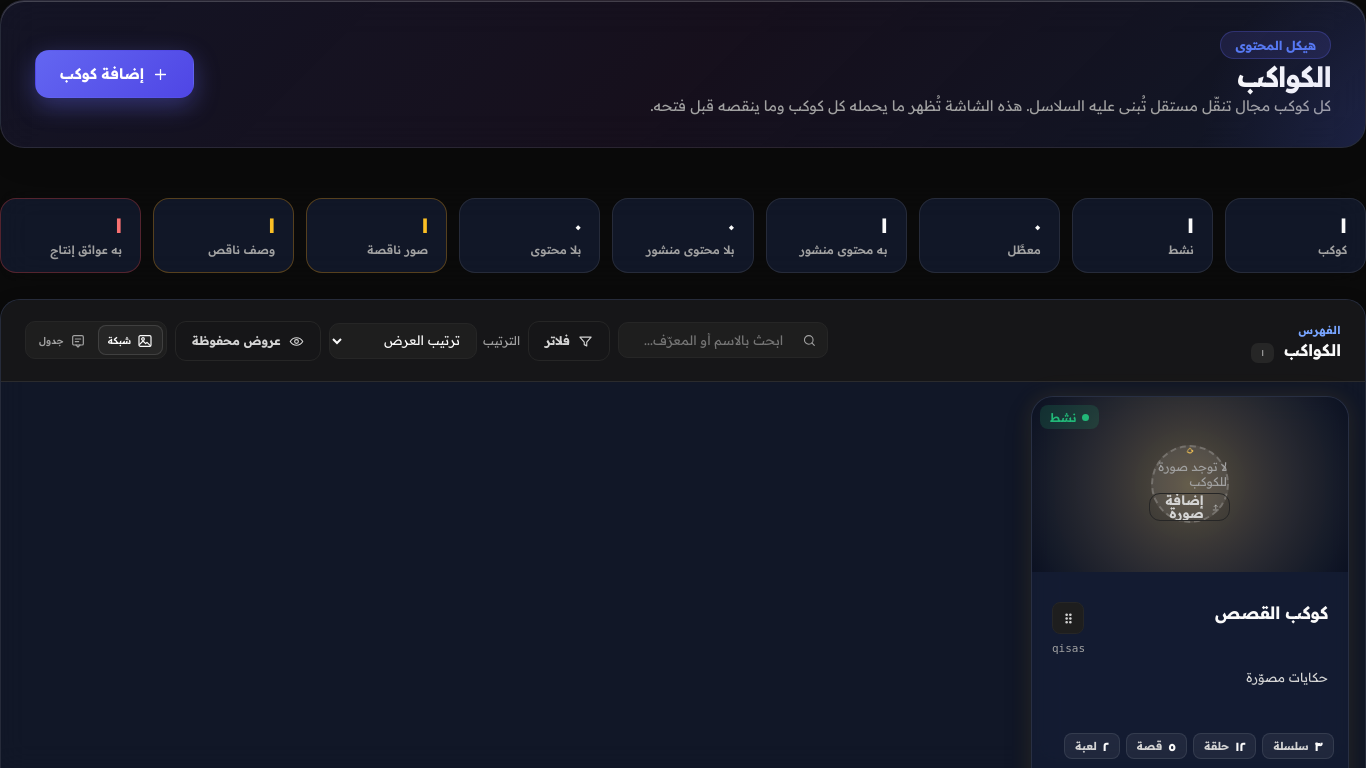
Test case: PlanetsPage › switching to the table view is recorded in the URL and keeps the data
Expected: the heading "كوكب القصص" is shown, [1215,602,1328,625]
Click the button "جدول" at (62, 341), box [29,326,96,356]
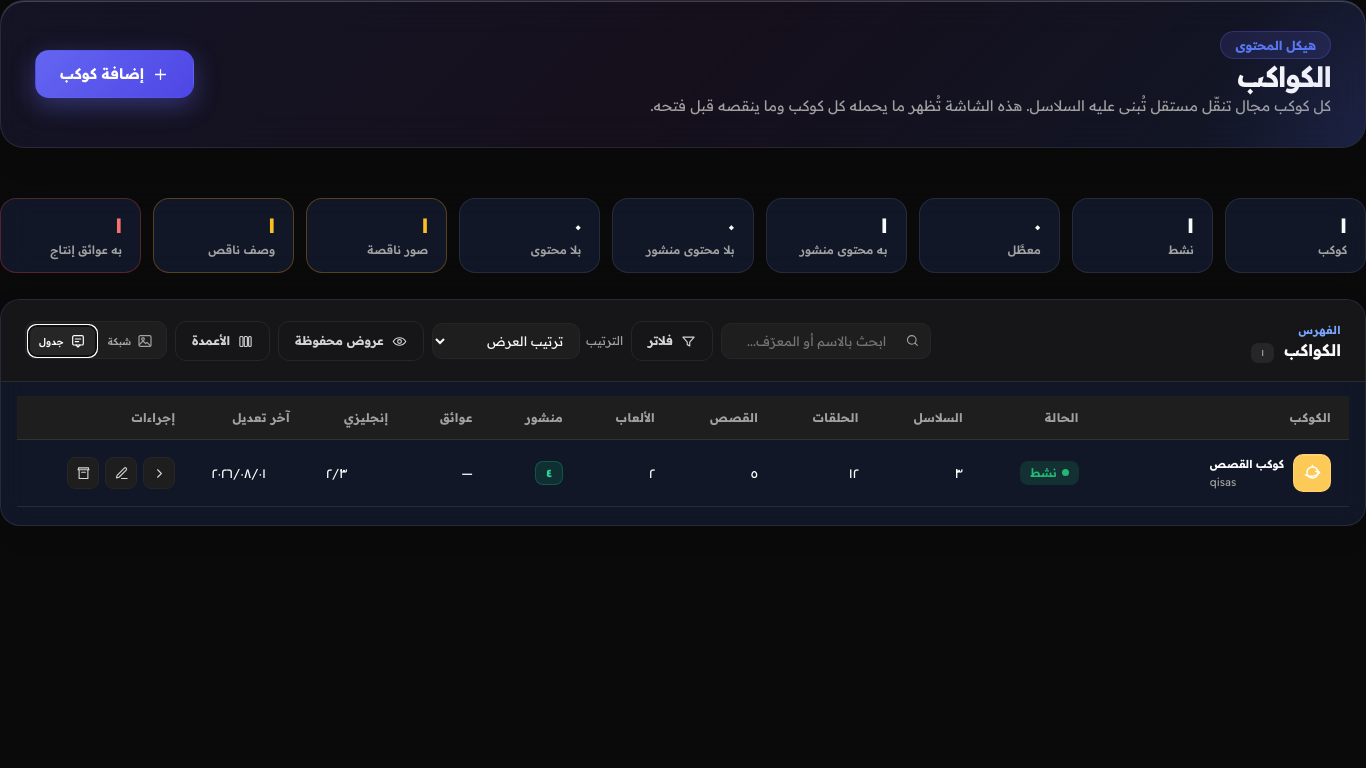
Result: the table is shown at [17,396,1349,507]
Result: the button "الأعمدة" is shown at [175,321,270,361]
